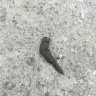Dog: (40, 37, 66, 75)
